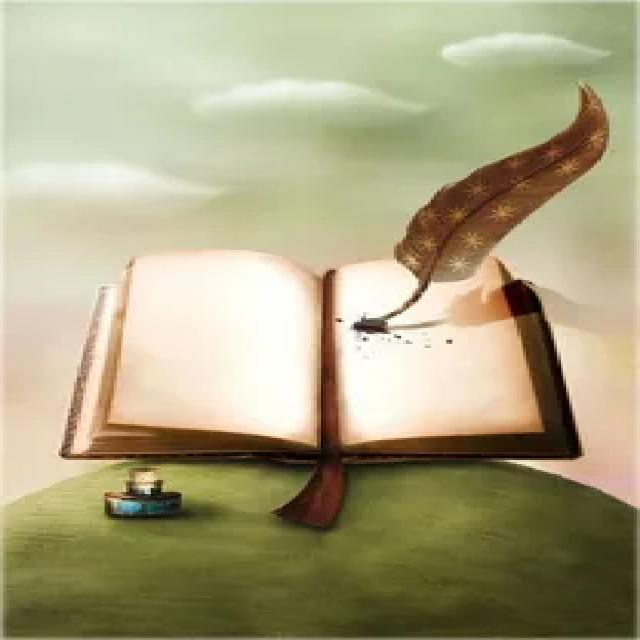book: (58, 231, 600, 486)
